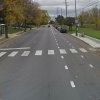crosswalk: (0, 46, 88, 59)
